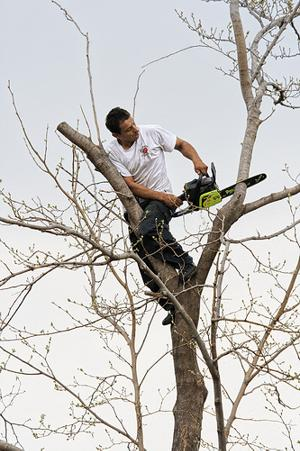person: (104, 106, 209, 326)
